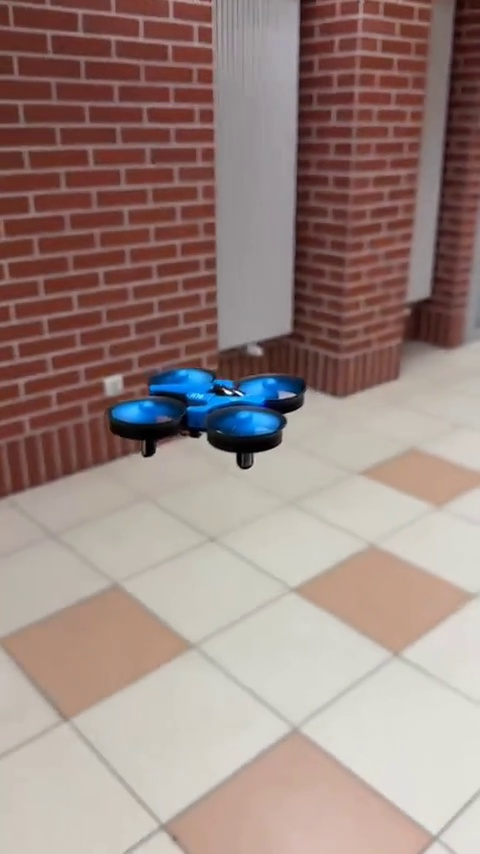drone: (105, 364, 313, 469)
